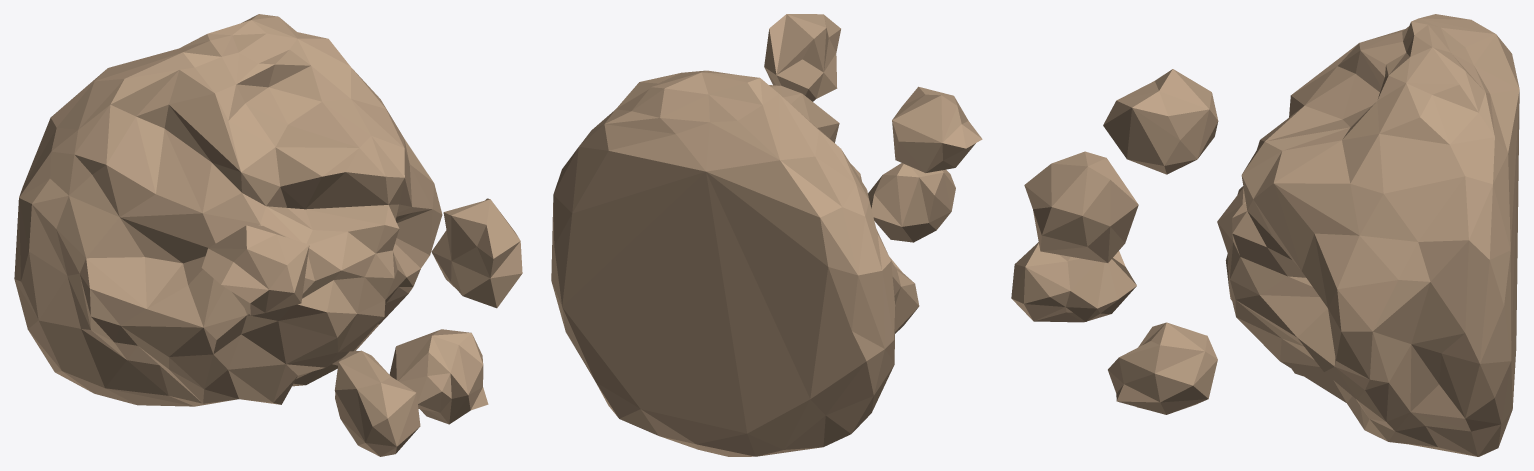
File: AstroidTile_2.fbx
The picture shows the model from 3 angles, left to right: view 1: azimuth 30°, elevation 25°; view 2: azimuth 150°, elevation 25°; view 3: azimuth 270°, elevation 25°; orthographic projection. The views are drawn at different scales.
Parts seen in each view (by area): view 1: Astroid.001; view 2: Astroid.001; view 3: Astroid.001.
Boxes of the visible parts, x1,y1,x2,y2 form: Astroid.001: [14, 14, 522, 456]; Astroid.001: [551, 14, 982, 456]; Astroid.001: [1011, 14, 1519, 456].
Bounding box in the file's own units: 1.05 × 1.02 × 1.18.
